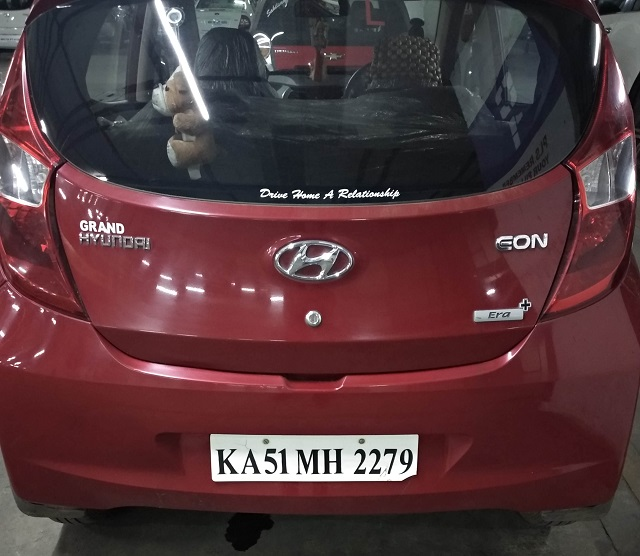licenseplate: (209, 432, 422, 485)
